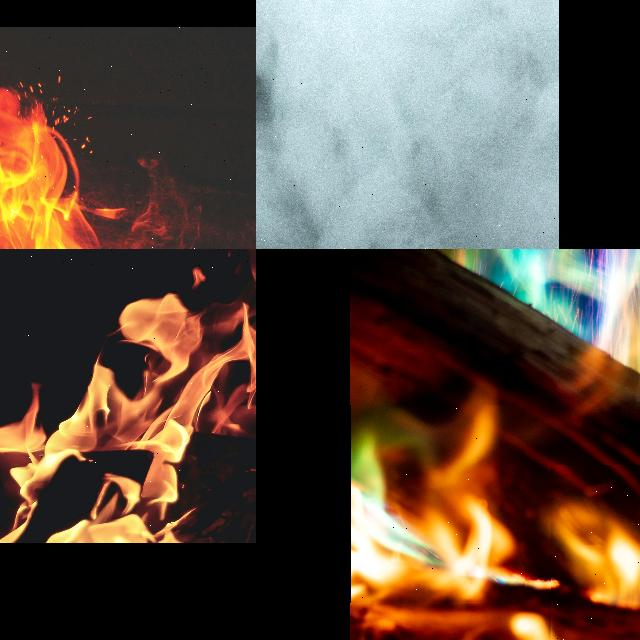fire: (0, 295, 256, 544), (350, 406, 524, 602), (0, 86, 93, 249), (551, 506, 640, 611)
smoke: (256, 0, 558, 249)
